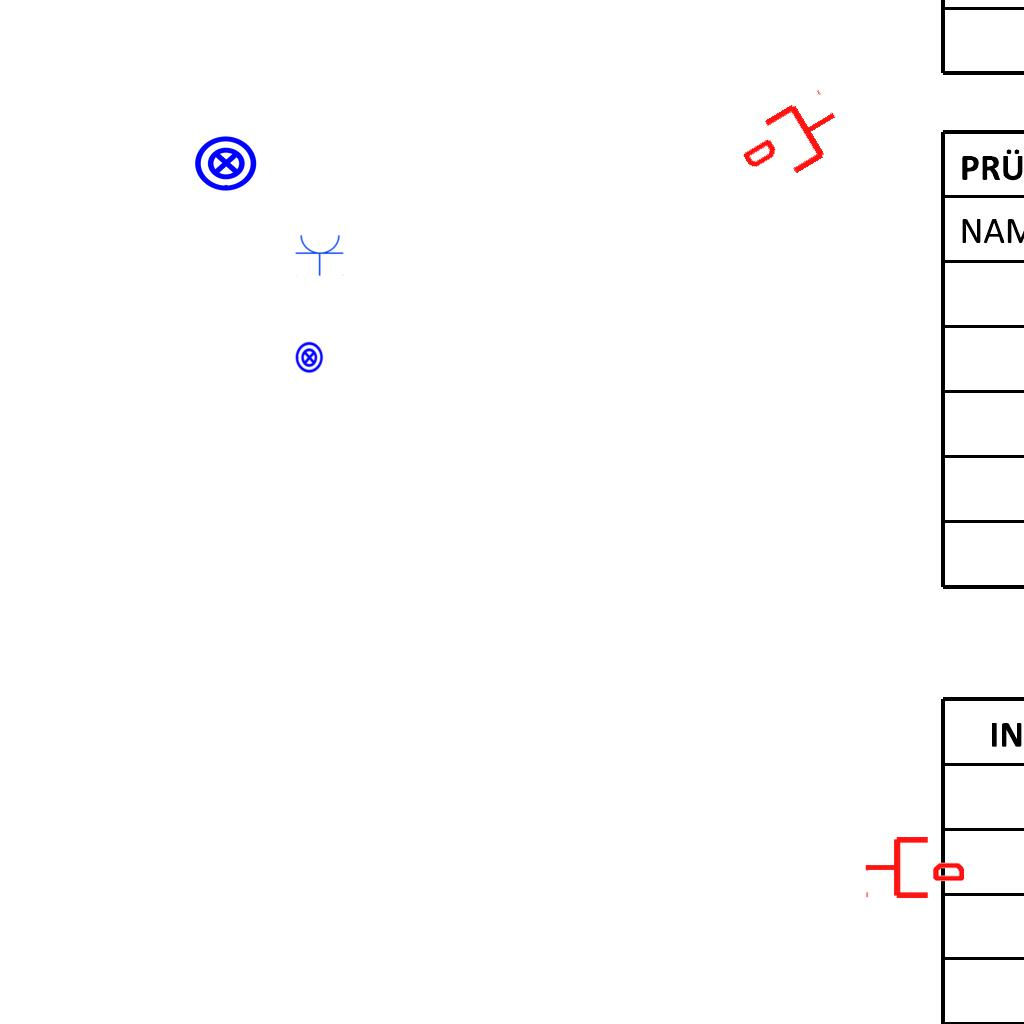Datenanschluss_einfach: (731, 84, 854, 196), (864, 833, 964, 902)
Schukosteckdose_einfach: (295, 233, 345, 276)
Taster_beleuchtet: (193, 130, 259, 196), (293, 341, 326, 374)
